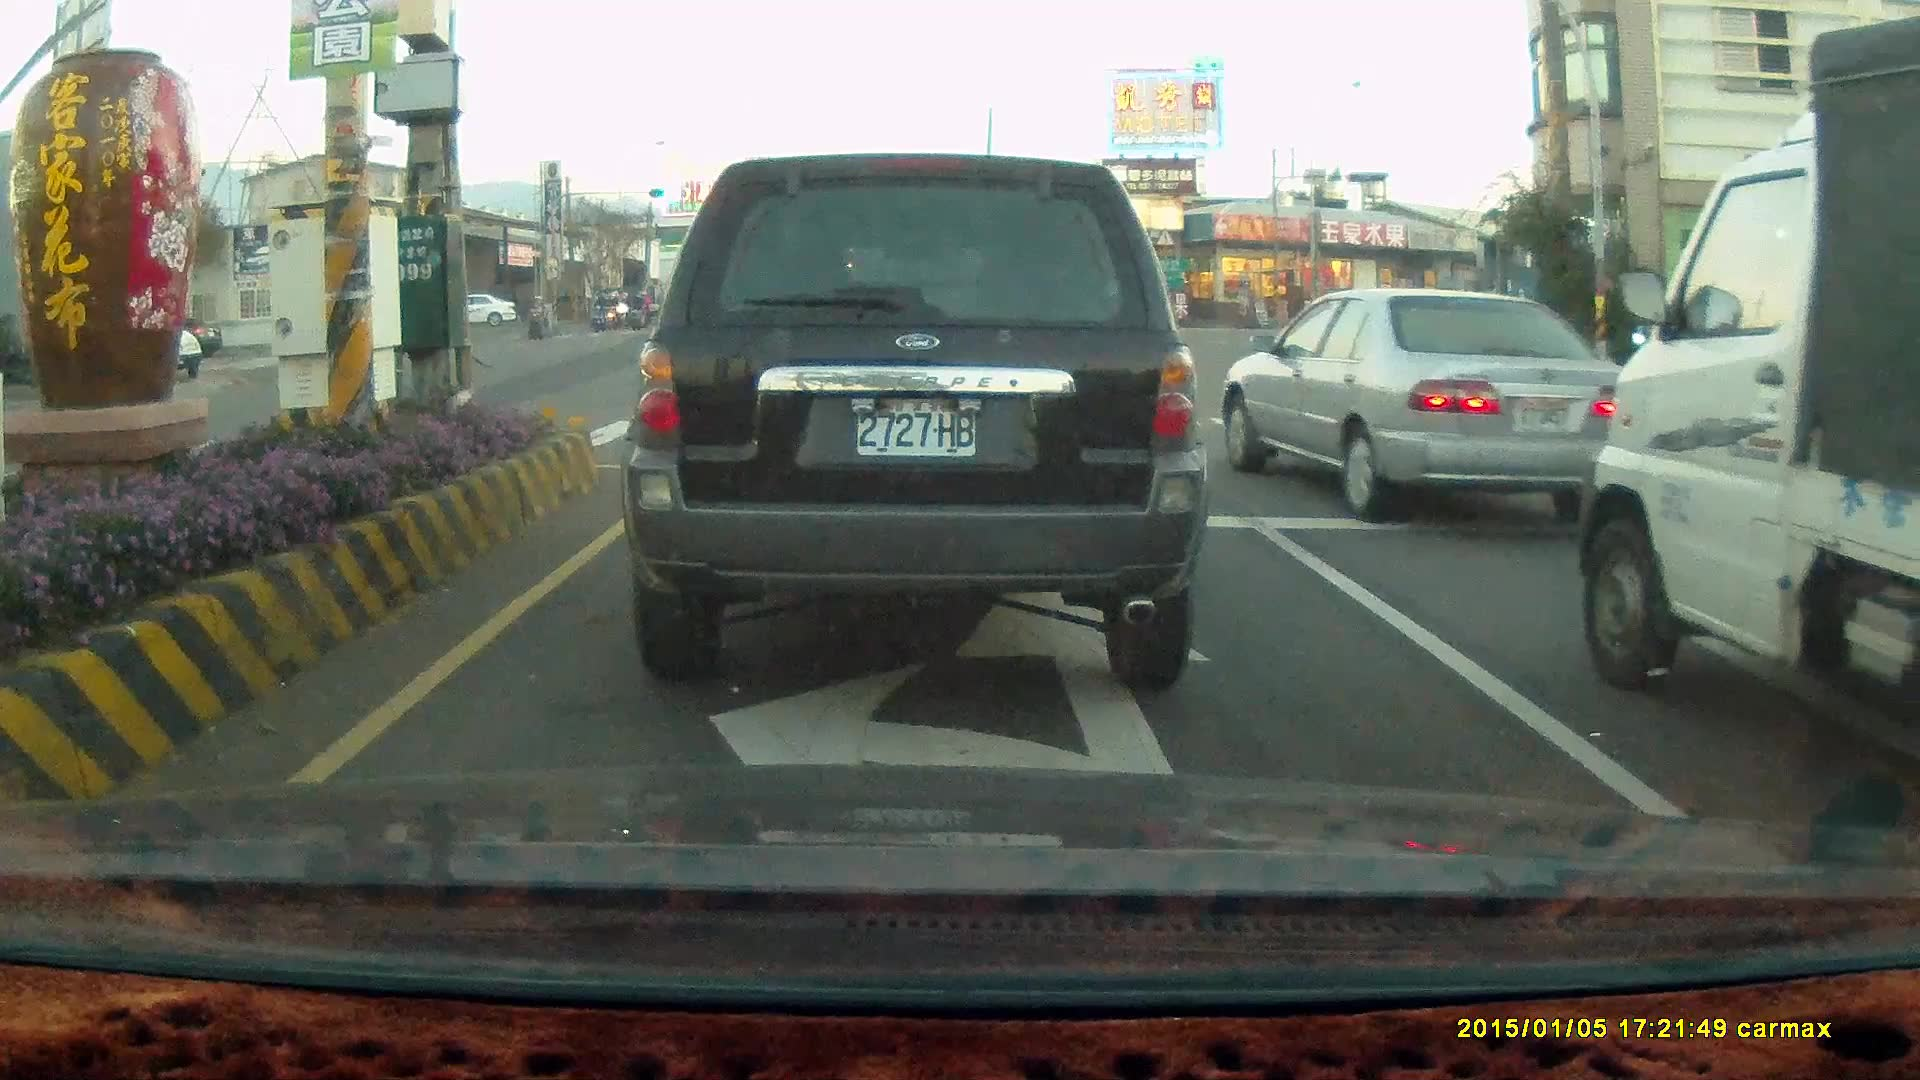rider: (520, 290, 551, 340), (625, 289, 648, 332), (588, 290, 609, 333), (592, 294, 614, 332)
vehicle: (617, 152, 1209, 695), (1574, 13, 1920, 792), (1216, 286, 1638, 524), (1216, 288, 1623, 524), (1672, 280, 1829, 371), (448, 295, 518, 328)
